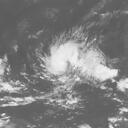cyclone: (43, 43, 100, 79)
